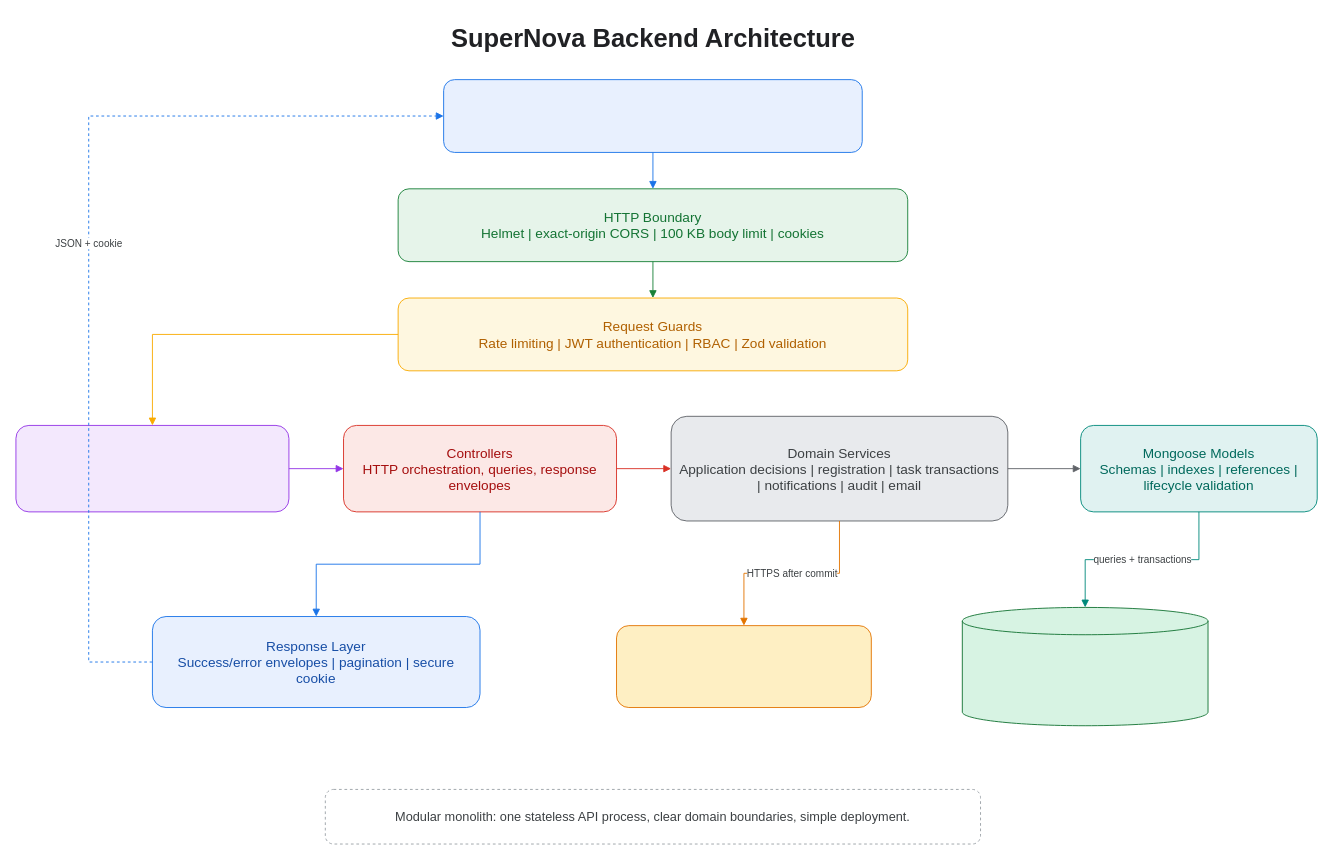
The diagram is 1333 pixels wide and 860 high, and some of its shapes have lost their labels. Each missing label, with the box of its shape:
API Consumers Official site | Virtual Club | Future mobile: (443, 79, 862, 152)
Brevo HTTPS API Decision and invitation delivery: (616, 625, 871, 708)
MongoDB Atlas System of record Replica-set transactions: (961, 607, 1208, 726)
Routes /auth /applications /departments /tasks /events /content ...: (15, 425, 289, 512)
